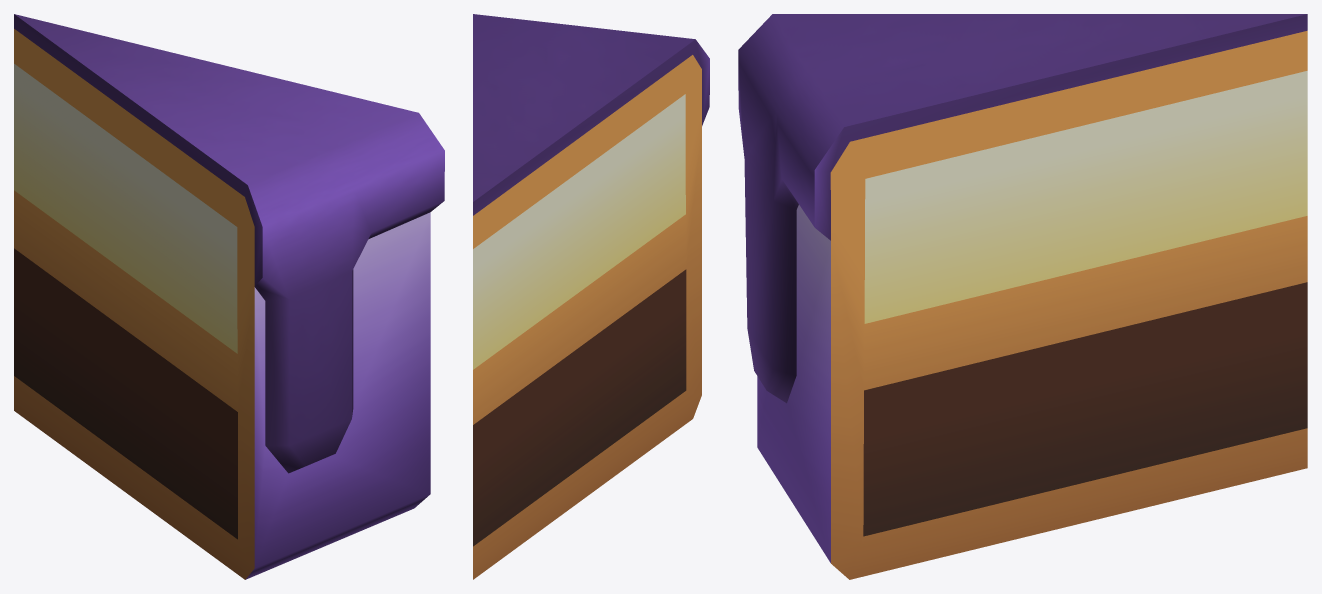
File: m_CakeGlazed01_Slice02.fbx
3 views of the same model, side by side, from view 1: azimuth 30°, elevation 25°; view 2: azimuth 150°, elevation 25°; view 3: azimuth 270°, elevation 25° (orthographic). The views are drawn at different scales.
Visible parts, largest first — view 1: m_CakeGlazed06_Slice02; view 2: m_CakeGlazed06_Slice02; view 3: m_CakeGlazed06_Slice02.
Part boxes in pixels (x1=…): m_CakeGlazed06_Slice02: x1=14, y1=14, x2=444, y2=579; m_CakeGlazed06_Slice02: x1=473, y1=14, x2=709, y2=579; m_CakeGlazed06_Slice02: x1=738, y1=14, x2=1307, y2=579.
Bounding box in the file's own units: 6.52 × 11.48 × 13.04.
